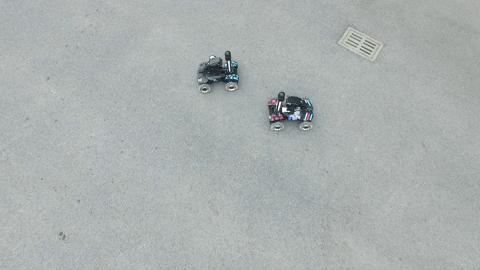chariot: (261, 87, 322, 136), (193, 47, 242, 100)
